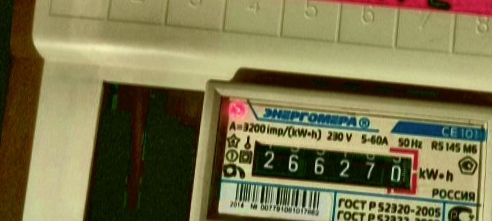0: (386, 161, 402, 182)
2: (259, 147, 274, 169), (336, 156, 351, 177)
6: (284, 150, 298, 172), (310, 154, 325, 174)
7: (362, 159, 374, 178)
screen: (237, 128, 424, 200)
